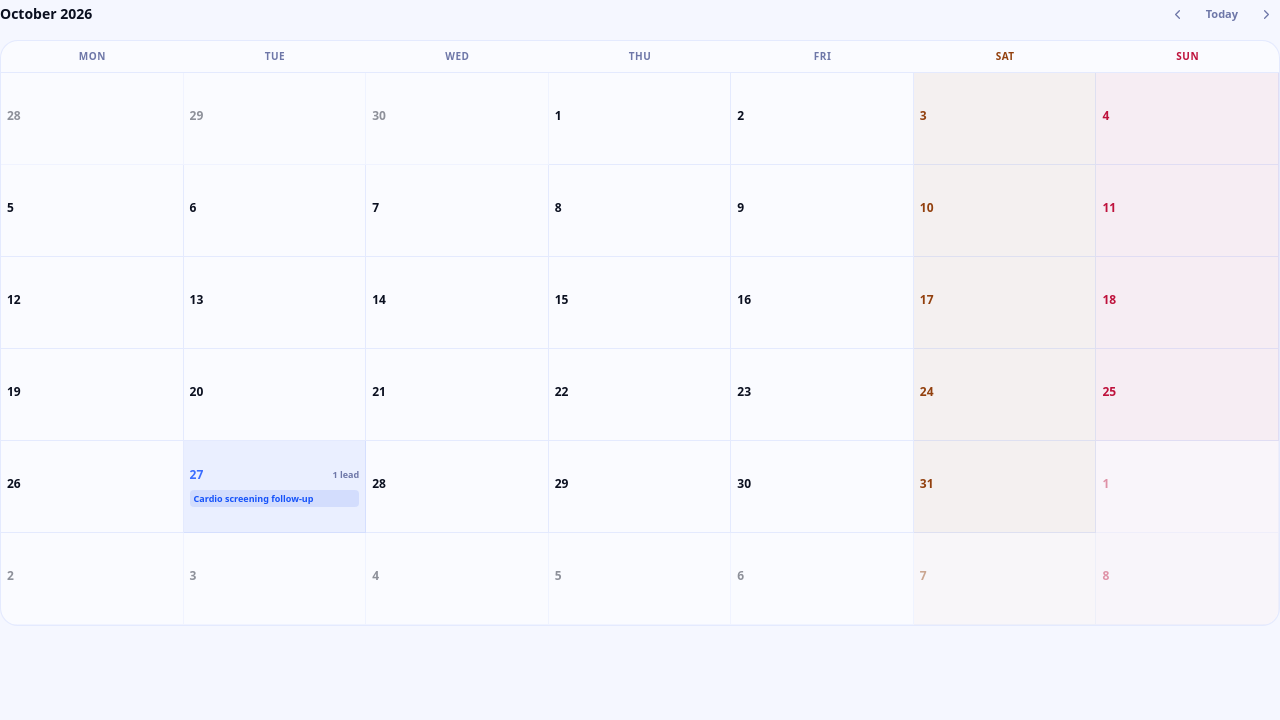
Test: CalendarView › renders a lead chip on its follow-up day and opens the day modal on click
Expected: the text "Cardio screening follow-up" is shown, [190,490,359,507]
Click the button "27 1 lead Cardio screening follow-up" at (275, 487), box [184,441,366,533]
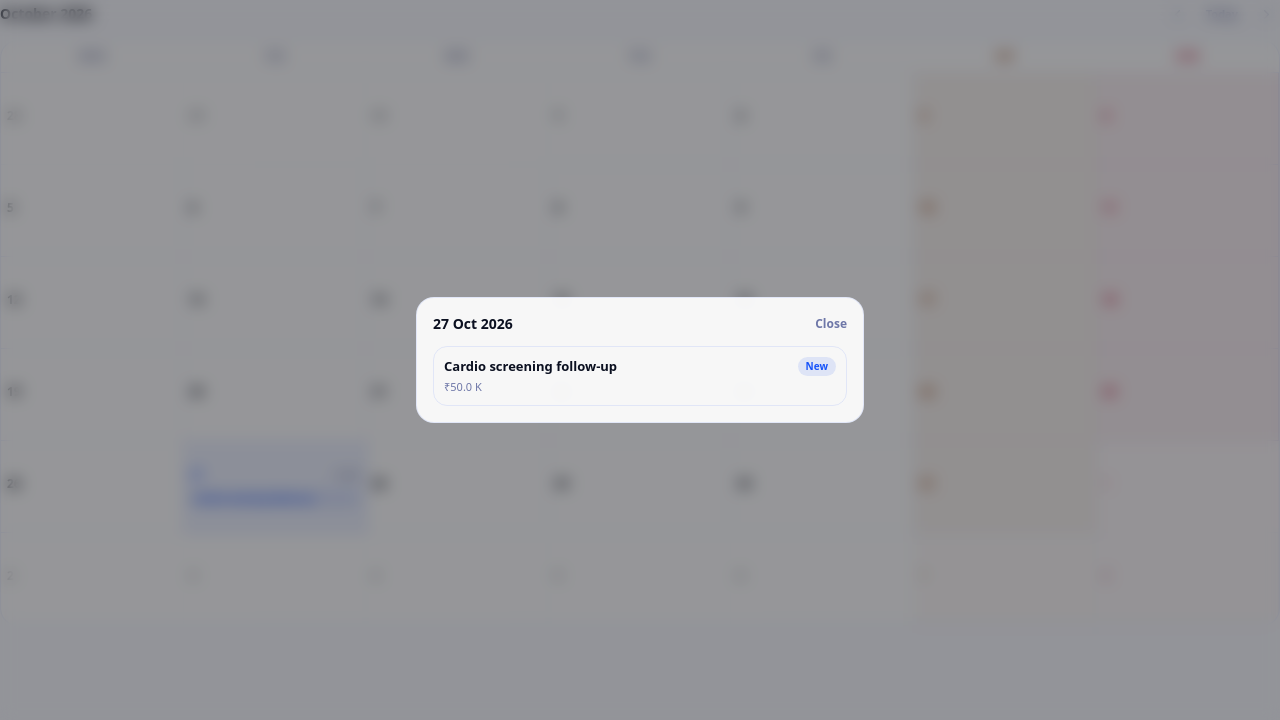
Expected: the button "Close" is shown, [815,315,847,333]
